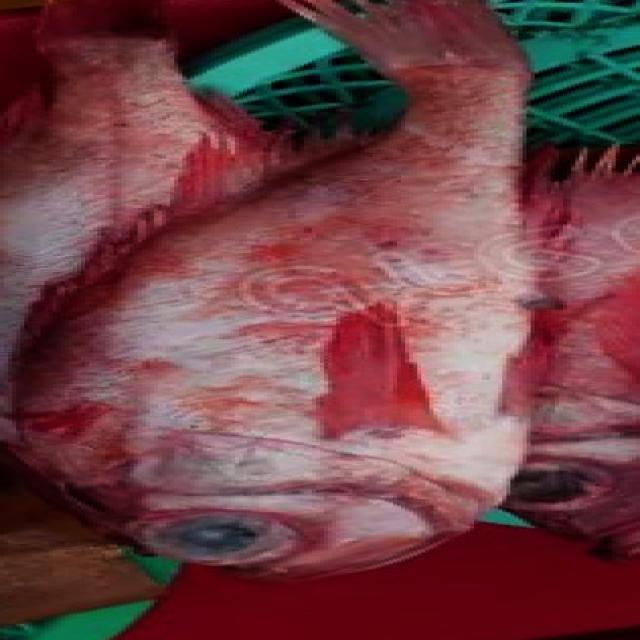Red Snapper: (16, 0, 531, 584)
